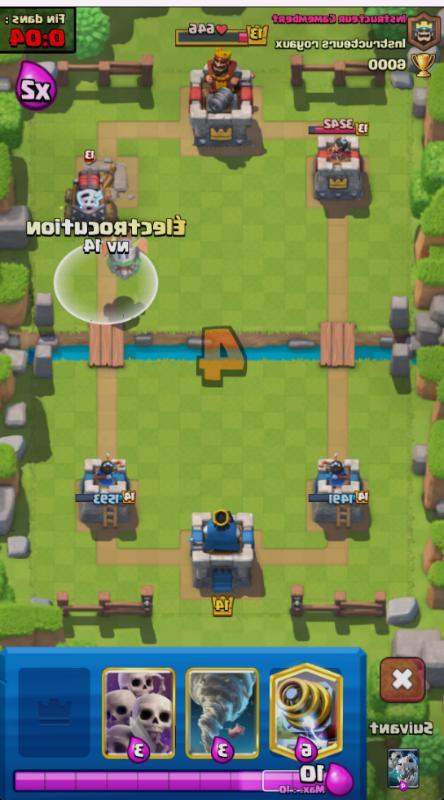enemy_inferno_dragon: (106, 237, 151, 278)
enemy_sparky: (62, 157, 118, 218)
